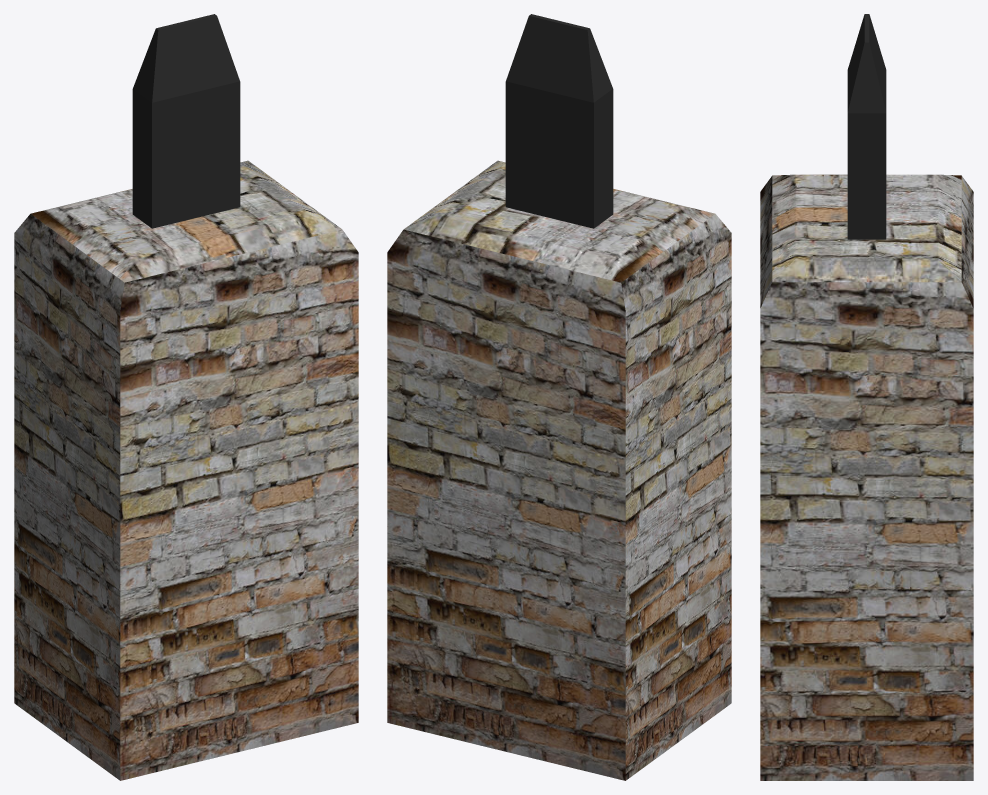
The model's file is Build4.fbx.
The picture shows the model from 3 angles, left to right: view 1: azimuth 30°, elevation 25°; view 2: azimuth 150°, elevation 25°; view 3: azimuth 270°, elevation 25°; orthographic projection.
Visible parts, largest first — view 1: Box003; view 2: Box003; view 3: Box003.
Boxes of the visible parts, box(x1,y1,x2,y2) form: Box003: box(14, 14, 358, 780); Box003: box(387, 14, 731, 780); Box003: box(760, 14, 973, 780).
Bounding box in the file's own units: 28.2 × 78.16 × 21.74.
2 materials, 1 textured.
